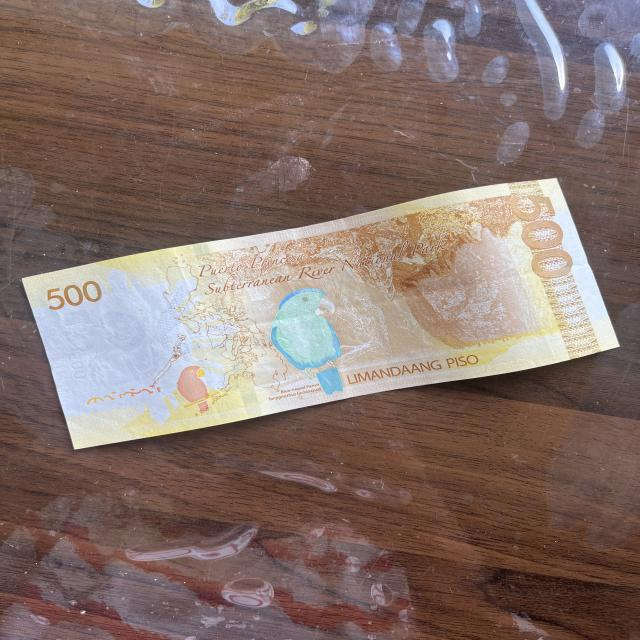500_big_parrot: (266, 287, 354, 398), (174, 361, 222, 416)
value_watermark: (65, 352, 93, 382)
watermark: (61, 297, 177, 391)
